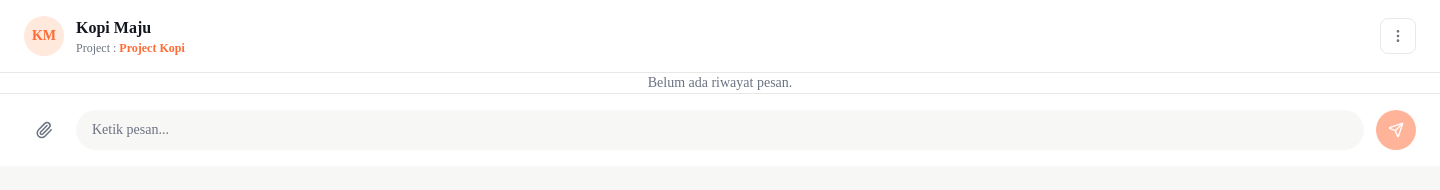
Test: ChatPanel optimistic messages › rolls back the optimistic message and restores the draft on failure
The width and height of the screenshot is (1440, 190).
Type "Coba lagi" into the field with placeholder "Ketik pesan...". click: (720, 130)
box: [76,110,1364,150]
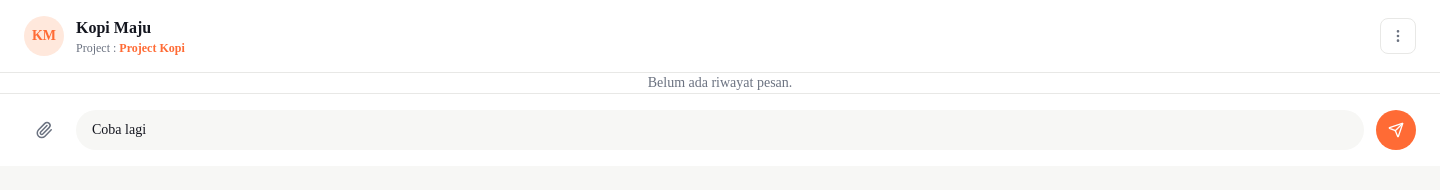
Submit the form with placeholder "Ketik pesan...", box [24,110,1416,150]
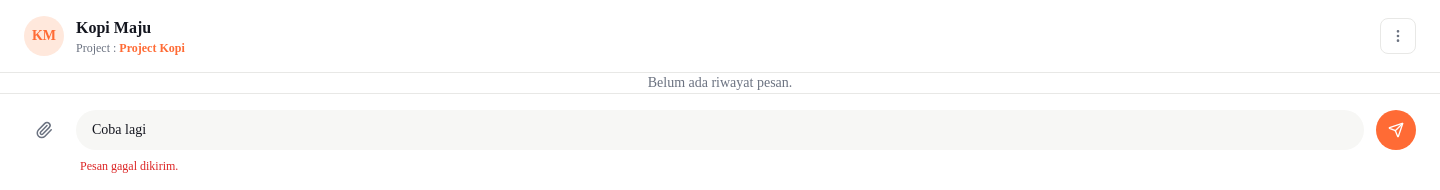
Check: the message reads "Pesan gagal dikirim.", box [80,159,178,173]
